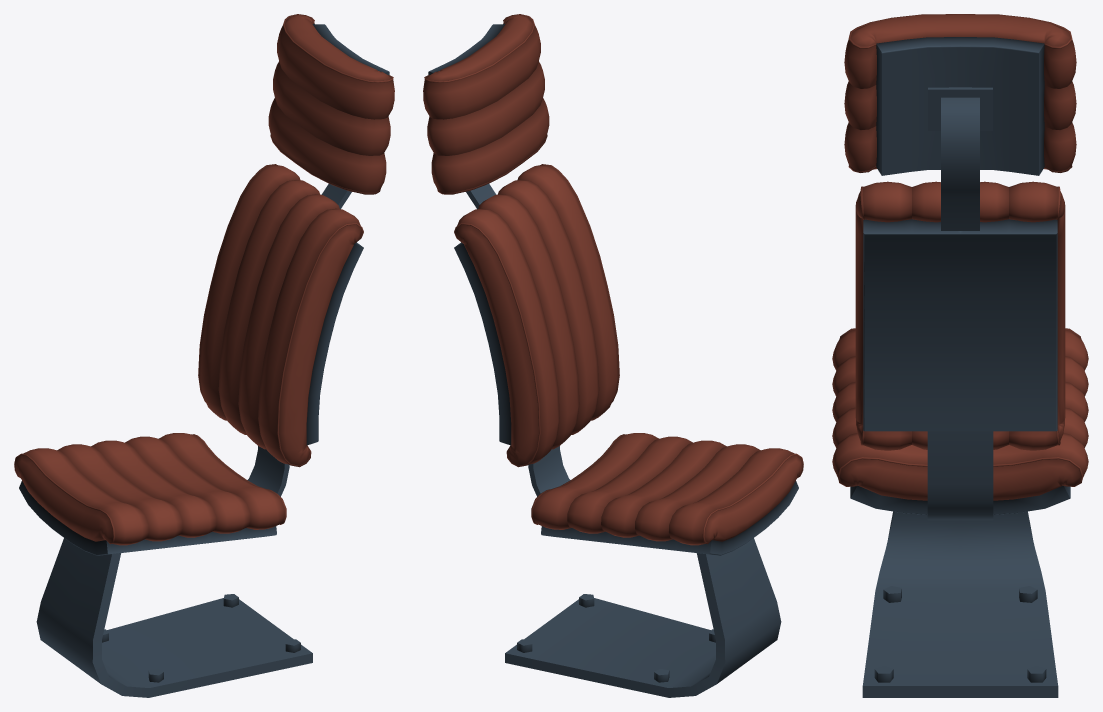
File: Pilot Seat.fbx
3 views of the same model, side by side, from view 1: azimuth 30°, elevation 25°; view 2: azimuth 150°, elevation 25°; view 3: azimuth 270°, elevation 25° (orthographic). The views are drawn at different scales.
Visible parts, largest first — view 1: Pilot Seat; view 2: Pilot Seat; view 3: Pilot Seat.
Part boxes in pixels (x1=…): Pilot Seat: x1=14, y1=14, x2=394, y2=697; Pilot Seat: x1=423, y1=14, x2=803, y2=697; Pilot Seat: x1=832, y1=14, x2=1088, y2=697.
Bounding box in the file's own units: 151 × 265 × 86.86.
